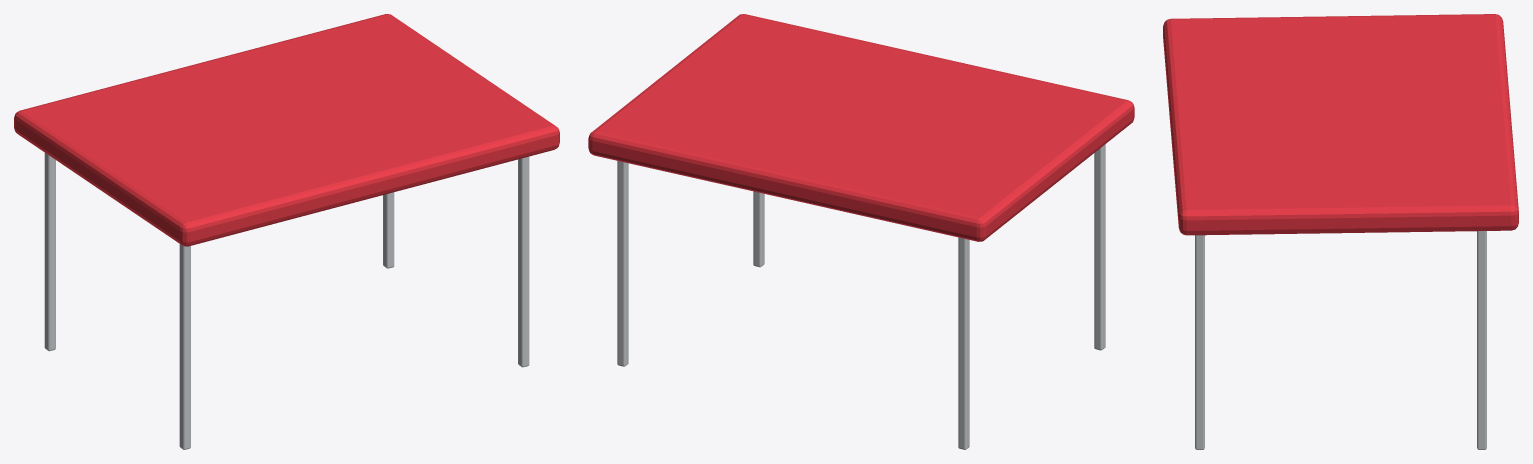
The model's file is paddock_tent.glb.
3 renders of one model, left to right at view 1: azimuth 30°, elevation 25°; view 2: azimuth 150°, elevation 25°; view 3: azimuth 270°, elevation 25°, orthographic. The views are drawn at different scales.
Visible parts, largest first — view 1: Roof, Post.002, Post, Post.001, Post.003; view 2: Roof, Post.001, Post.003, Post, Post.002; view 3: Roof, Post.003, Post.002.
Part boxes in pixels (left/top/right/bottom): Roof: left=14, top=14, right=559, bottom=246; Post.002: left=518, top=156, right=529, bottom=367; Post: left=179, top=244, right=190, bottom=449; Post.001: left=44, top=153, right=55, bottom=351; Post.003: left=383, top=192, right=394, bottom=268; Roof: left=588, top=14, right=1134, bottom=241; Post.001: left=958, top=237, right=969, bottom=449; Post.003: left=617, top=161, right=628, bottom=366; Post: left=1094, top=144, right=1105, bottom=350; Post.002: left=753, top=191, right=764, bottom=267; Roof: left=1163, top=14, right=1518, bottom=235; Post.003: left=1477, top=231, right=1486, bottom=449; Post.002: left=1195, top=235, right=1204, bottom=449.
Bounding box in the file's own units: 4.91 × 2.84 × 3.66.
